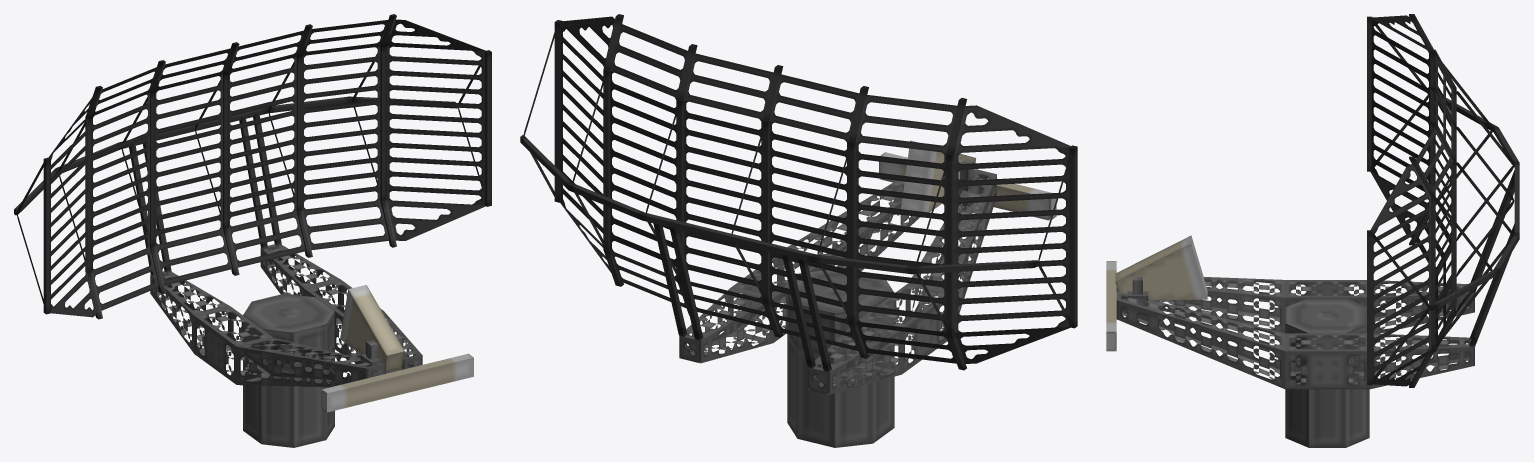
Rendered from radar_large_dish.obj.
3 renders of one model, left to right at view 1: azimuth 30°, elevation 25°; view 2: azimuth 150°, elevation 25°; view 3: azimuth 270°, elevation 25°, orthographic. The views are drawn at different scales.
Visible parts, largest first — view 1: Dish; view 2: Dish; view 3: Dish.
Part boxes in pixels (x1,y1,x2,y2): Dish: (14,14,491,447); Dish: (520,14,1077,447); Dish: (1106,14,1519,447).
Size of the model in its own units: 6.06 by 4.5 by 4.91.
